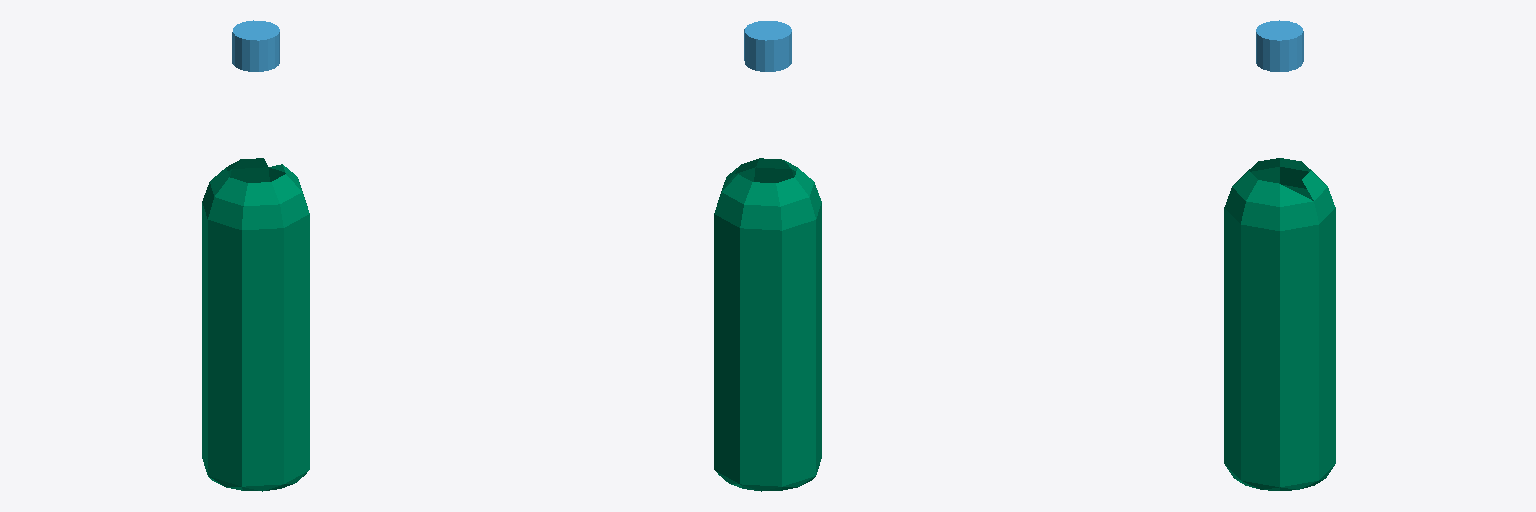
URDF robot description (partnet_158634b1d7d010eeebe67d9b32c3ddf8):
<?xml version="1.0" ?>
<robot name="partnet_158634b1d7d010eeebe67d9b32c3ddf8">
	<link name="base"/>
	<link name="link_0">
		<visual name="lid-13">
			<origin xyz="-0.0034696680649939065 0 -0.005978668064993904"/>
			<geometry>
				<mesh filename="textured_objs/original-2.obj"/>
			</geometry>
		</visual>
		<collision>
			<origin xyz="-0.0034696680649939065 0 -0.005978668064993904"/>
			<geometry>
				<mesh filename="textured_objs/original-2.obj"/>
			</geometry>
		</collision>
	</link>
	<joint name="joint_0" type="continuous">
		<origin xyz="0.0 0 0.0"/>
		<axis xyz="0 1 0"/>
		<child link="link_0"/>
		<parent link="link_0_helper"/>
	</joint>
	<link name="link_1">
		<visual name="body-11">
			<origin xyz="0 0 0"/>
			<geometry>
				<mesh filename="textured_objs/new-3.obj"/>
			</geometry>
		</visual>
		<visual name="neck-12">
			<origin xyz="0 0 0"/>
			<geometry>
				<mesh filename="textured_objs/new-1.obj"/>
			</geometry>
		</visual>
		<visual name="neck-12">
			<origin xyz="0 0 0"/>
			<geometry>
				<mesh filename="textured_objs/new-2.obj"/>
			</geometry>
		</visual>
		<collision>
			<origin xyz="0 0 0"/>
			<geometry>
				<mesh filename="textured_objs/new-3.obj"/>
			</geometry>
		</collision>
		<collision>
			<origin xyz="0 0 0"/>
			<geometry>
				<mesh filename="textured_objs/new-1.obj"/>
			</geometry>
		</collision>
		<collision>
			<origin xyz="0 0 0"/>
			<geometry>
				<mesh filename="textured_objs/new-2.obj"/>
			</geometry>
		</collision>
	</link>
	<joint name="joint_1" type="fixed">
		<origin rpy="1.570796326794897 0 -1.570796326794897" xyz="0 0 0"/>
		<child link="link_1"/>
		<parent link="base"/>
	</joint>
	<link name="link_0_helper"/>
	<joint name="joint_2" type="prismatic">
		<origin xyz="0.0034696680649939065 0 0.005978668064993904"/>
		<axis xyz="0 1 0"/>
		<child link="link_0_helper"/>
		<parent link="link_1"/>
		<limit lower="-0.1080000000000001" upper="0"/>
	</joint>
</robot>

--- What the picture shows (computed from the rendered views, not written in the file) ---
Views: 3 orthographic renders of the robot side by side, from view 1: azimuth 30°, elevation 25°; view 2: azimuth 150°, elevation 25°; view 3: azimuth 270°, elevation 25°.
Robot: partnet_158634b1d7d010eeebe67d9b32c3ddf8 — 4 links, 3 joints (1 continuous, 1 prismatic, 1 fixed); root link base; default pose: all joints at 0.
Links seen in each view (by area): view 1: link_1, link_0; view 2: link_1, link_0; view 3: link_1, link_0.
Link boxes in pixels (x1,y1,x2,y2): link_1: [202, 158, 309, 491]; link_0: [232, 20, 279, 71]; link_1: [714, 158, 821, 491]; link_0: [744, 21, 791, 71]; link_1: [1224, 158, 1335, 490]; link_0: [1256, 20, 1303, 71].
Bounding box of the posed robot: 0.3924 × 0.3924 × 1.71 m (x, y, z).
Meshes: 4 distinct files referenced, 2 mesh visuals loaded (2 OBJ); not drawn: 2 (reference not matched to a file when rendering).
